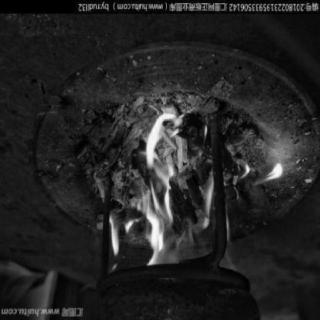Fire: (102, 105, 246, 269), (249, 161, 287, 187)
